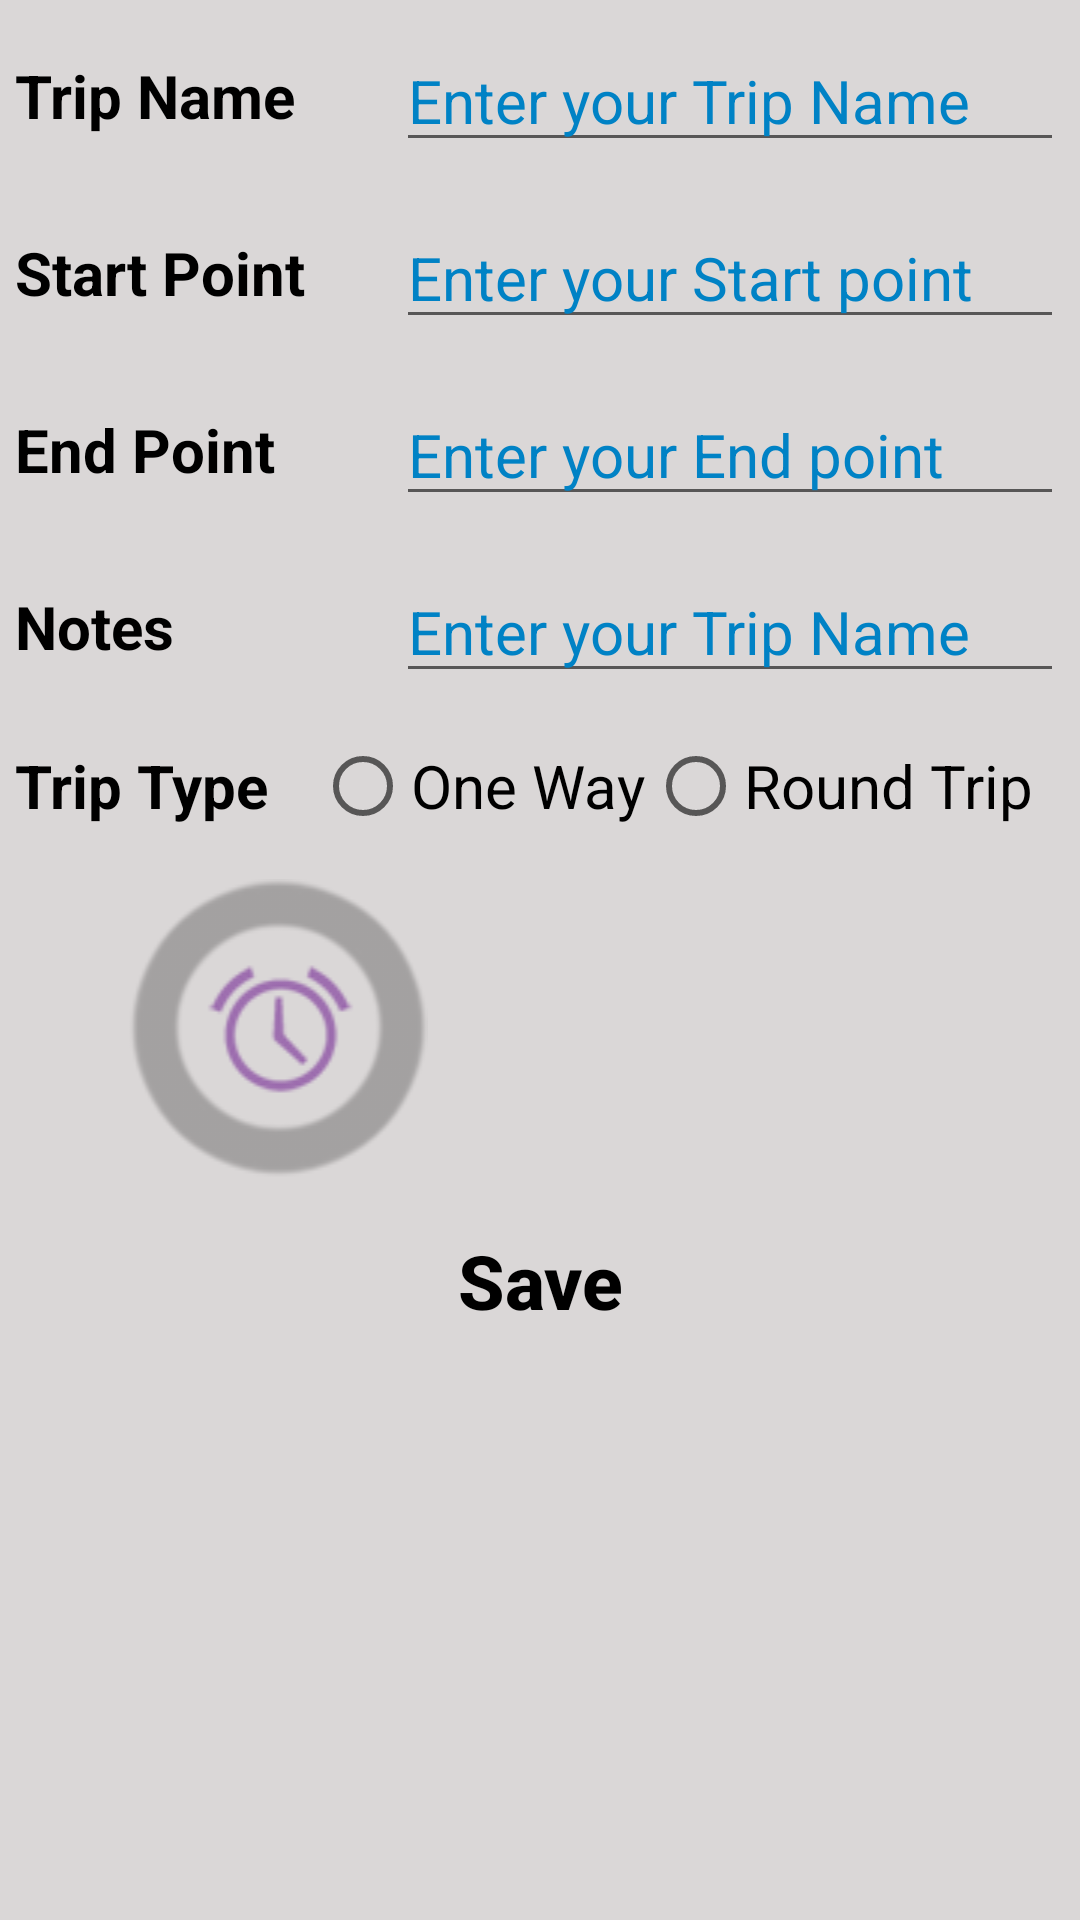

Icon bounding boxes for this 1080px×1920px phone screenshot, format (x1, y1, x2, y2):
Show alarm Dialog To user: (134, 883, 424, 1173)
